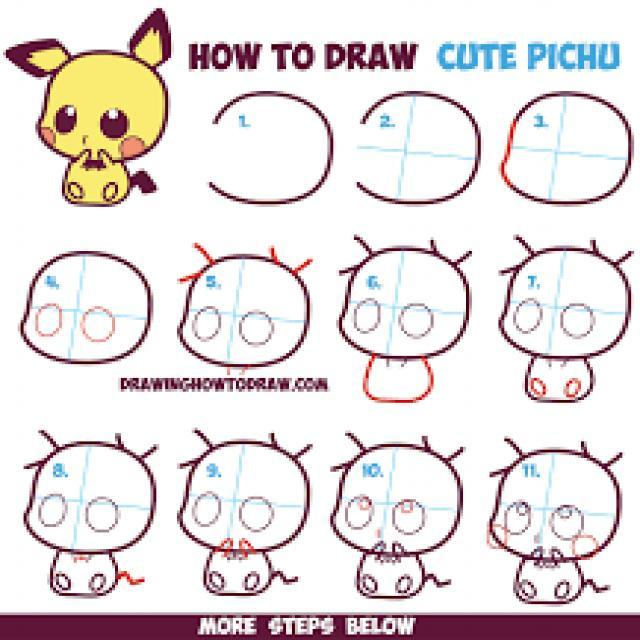pichu: (0, 1, 194, 218)
